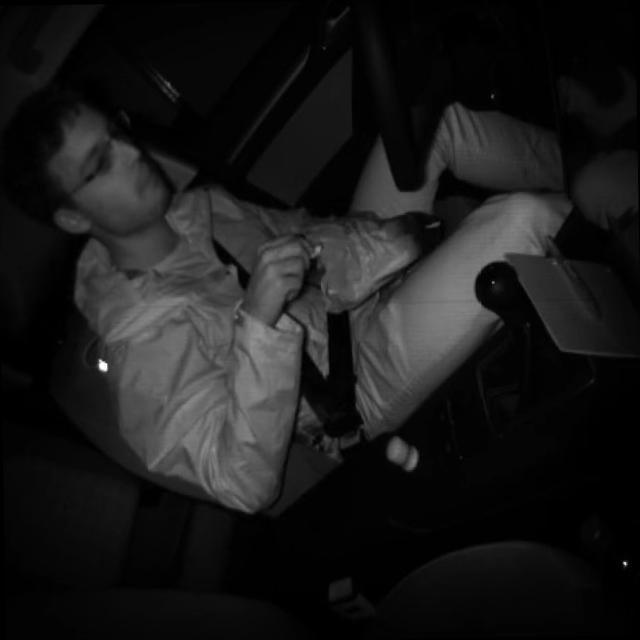pen: (543, 231, 604, 326)
